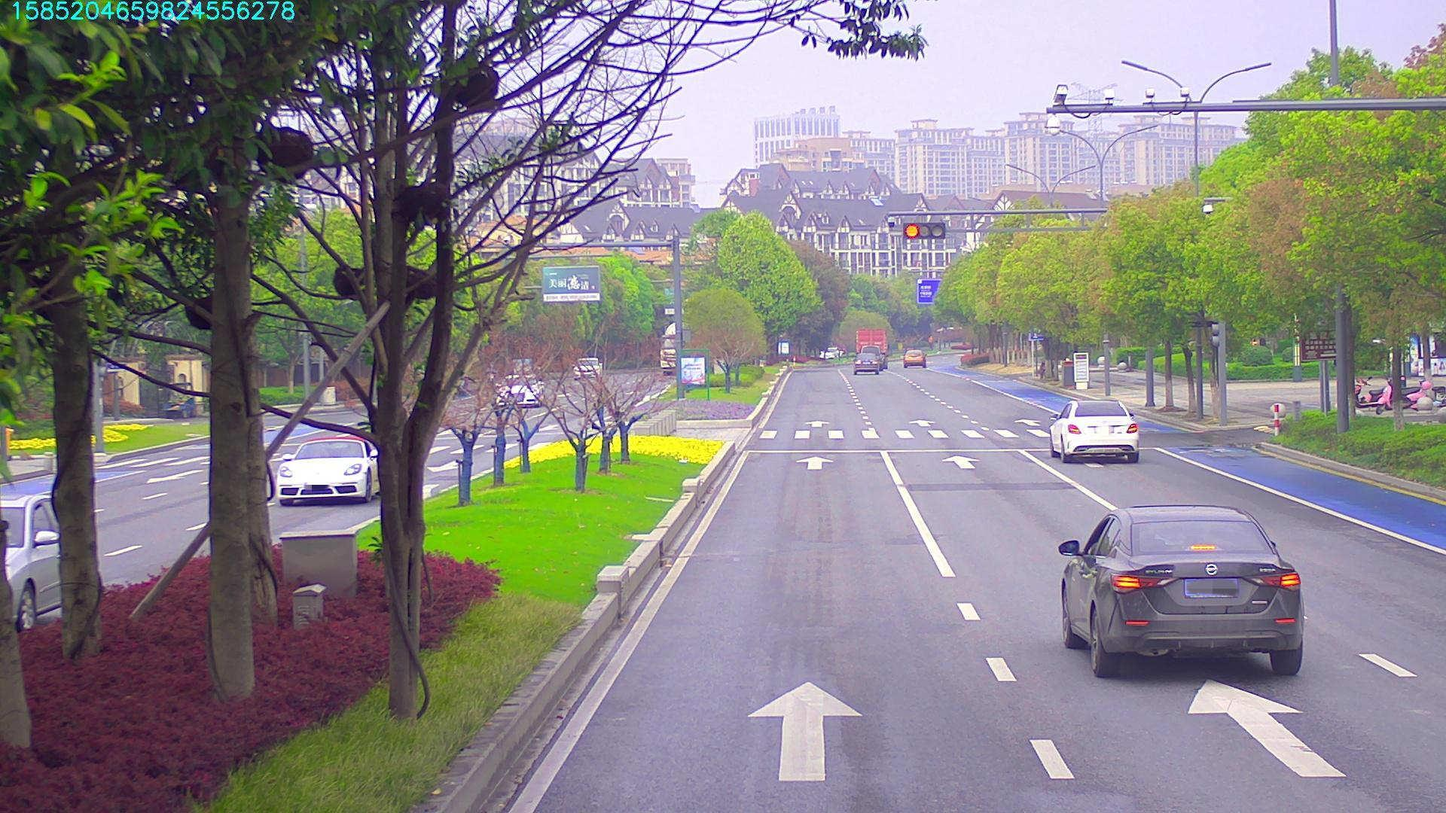red: (912, 224, 947, 242)
